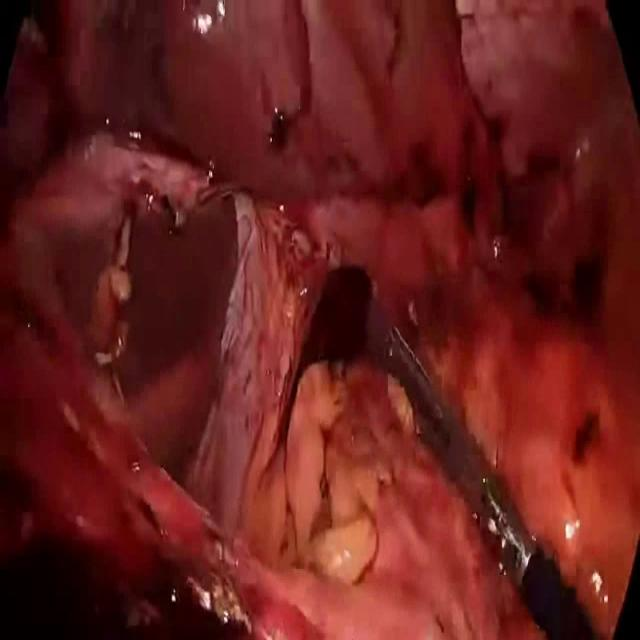surgical-area: (0, 0, 640, 639)
surgical-tool: (384, 326, 598, 639)
